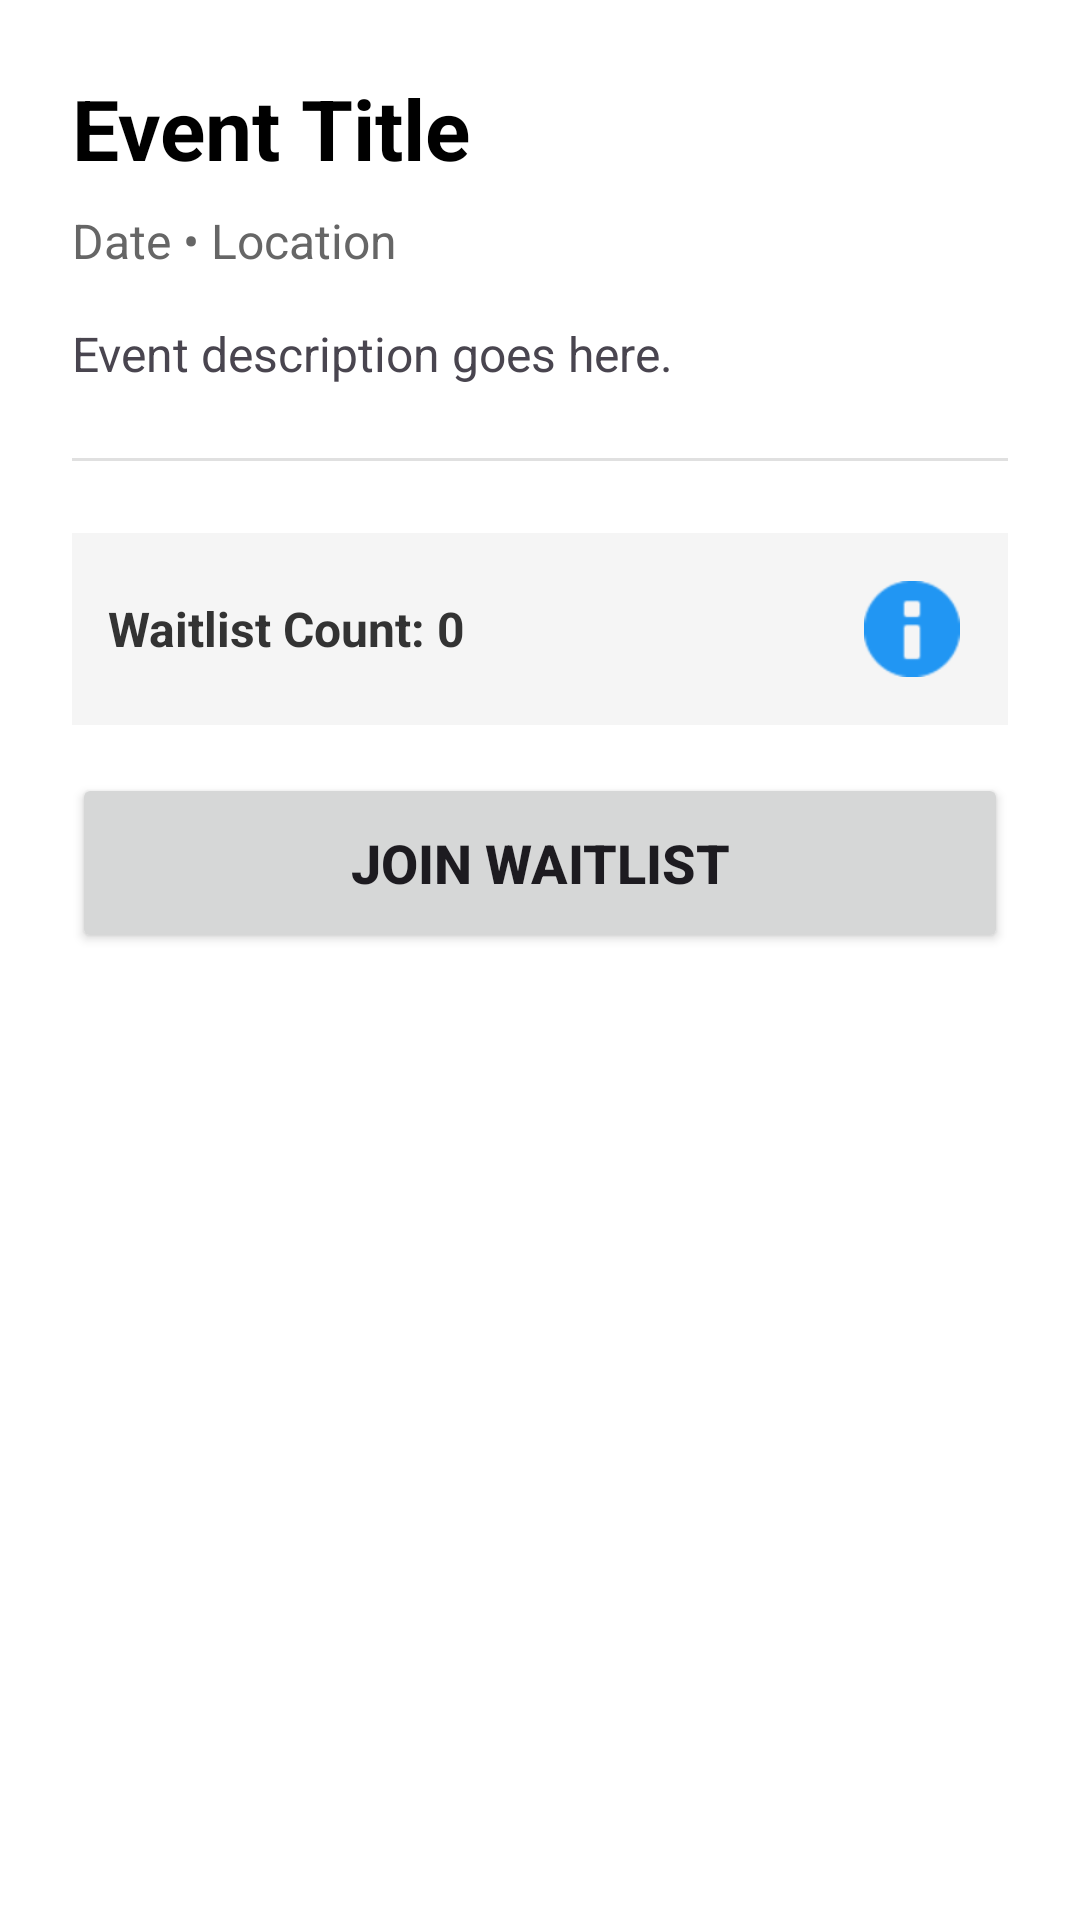

Locate icon controls on the screen. Image size 1080px x 1920px, boxes as (left=x1, top=y1, right=x2, bottom=y2).
Lottery Rules: (left=864, top=581, right=960, bottom=677)
